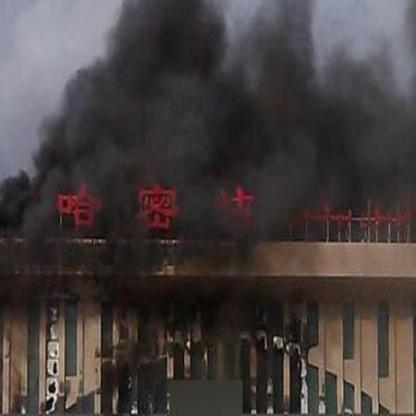smoke: (114, 0, 314, 236), (316, 51, 412, 208), (48, 71, 114, 228), (0, 138, 50, 238)
